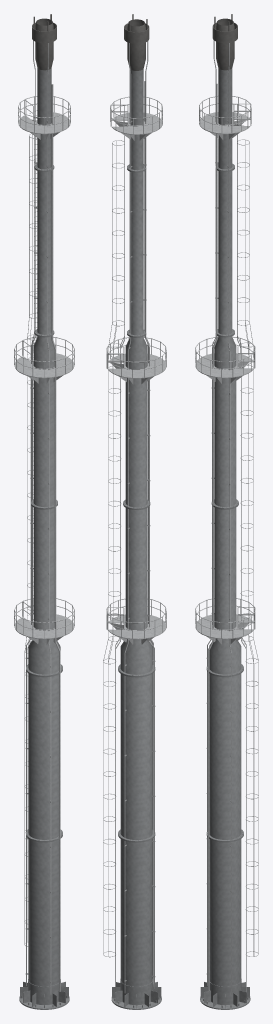
Rendered from elevated-flare-stack.glb.
The picture shows the model from 3 angles, left to right: view 1: azimuth 90°, elevation 25°; view 2: azimuth 150°, elevation 25°; view 3: azimuth 330°, elevation 25°; orthographic projection.
Parts seen in each view (by area): view 1: RiserSections, Pilot&PurgeLines, Platforms, CagedLadder, BaseAssembly, FlareTip&WindShield, SectionFlanges; view 2: RiserSections, Pilot&PurgeLines, Platforms, CagedLadder, BaseAssembly, FlareTip&WindShield, SectionFlanges; view 3: RiserSections, Platforms, Pilot&PurgeLines, CagedLadder, BaseAssembly, FlareTip&WindShield, SectionFlanges.
Part boxes in pixels (bbox=[...]): RiserSections: bbox=[28, 68, 60, 986]; Pilot&PurgeLines: bbox=[25, 40, 60, 994]; Platforms: bbox=[14, 96, 74, 644]; CagedLadder: bbox=[24, 103, 37, 946]; BaseAssembly: bbox=[19, 979, 69, 1009]; FlareTip&WindShield: bbox=[32, 14, 56, 70]; SectionFlanges: bbox=[26, 164, 62, 842]; RiserSections: bbox=[120, 69, 152, 986]; Pilot&PurgeLines: bbox=[124, 41, 155, 992]; Platforms: bbox=[106, 96, 166, 644]; CagedLadder: bbox=[103, 105, 124, 991]; BaseAssembly: bbox=[111, 979, 161, 1009]; FlareTip&WindShield: bbox=[124, 14, 149, 70]; SectionFlanges: bbox=[118, 164, 155, 842]; RiserSections: bbox=[209, 68, 241, 986]; Platforms: bbox=[195, 96, 255, 644]; Pilot&PurgeLines: bbox=[206, 40, 233, 994]; CagedLadder: bbox=[237, 104, 258, 991]; BaseAssembly: bbox=[200, 979, 250, 1009]; FlareTip&WindShield: bbox=[212, 14, 237, 70]; SectionFlanges: bbox=[206, 163, 243, 842].
Size of the model in its own units: 3.66 by 65.33 by 3.66.
Materials: 3 (3 with a texture image).
